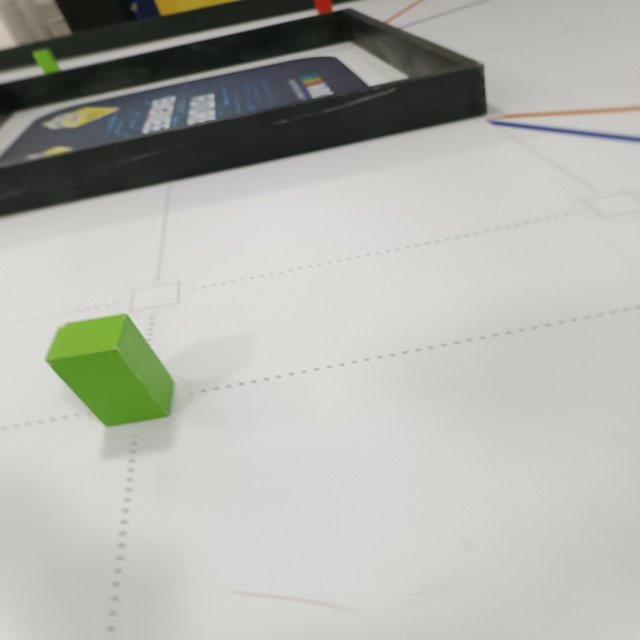blue line: (484, 117, 640, 153), (395, 0, 497, 30)
green rectangular prism: (38, 310, 184, 431), (29, 44, 61, 80)
orange line: (484, 106, 640, 123), (377, 0, 422, 26)
